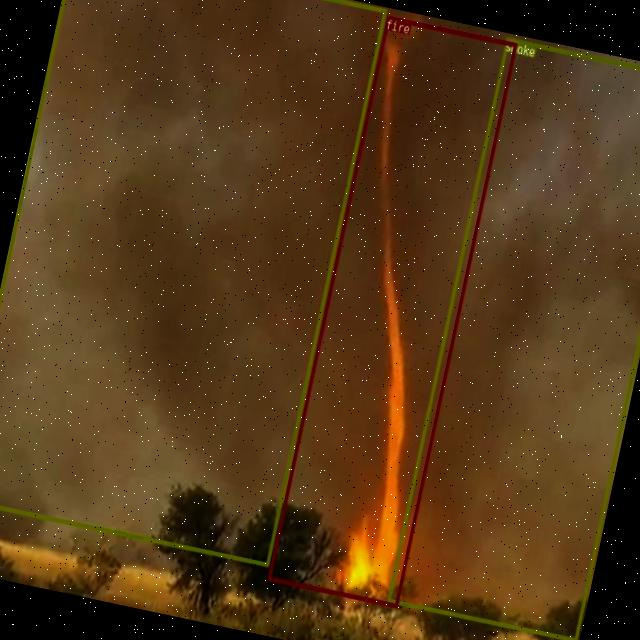fire: (266, 14, 516, 606)
smoke: (0, 0, 386, 565), (386, 37, 640, 640)
